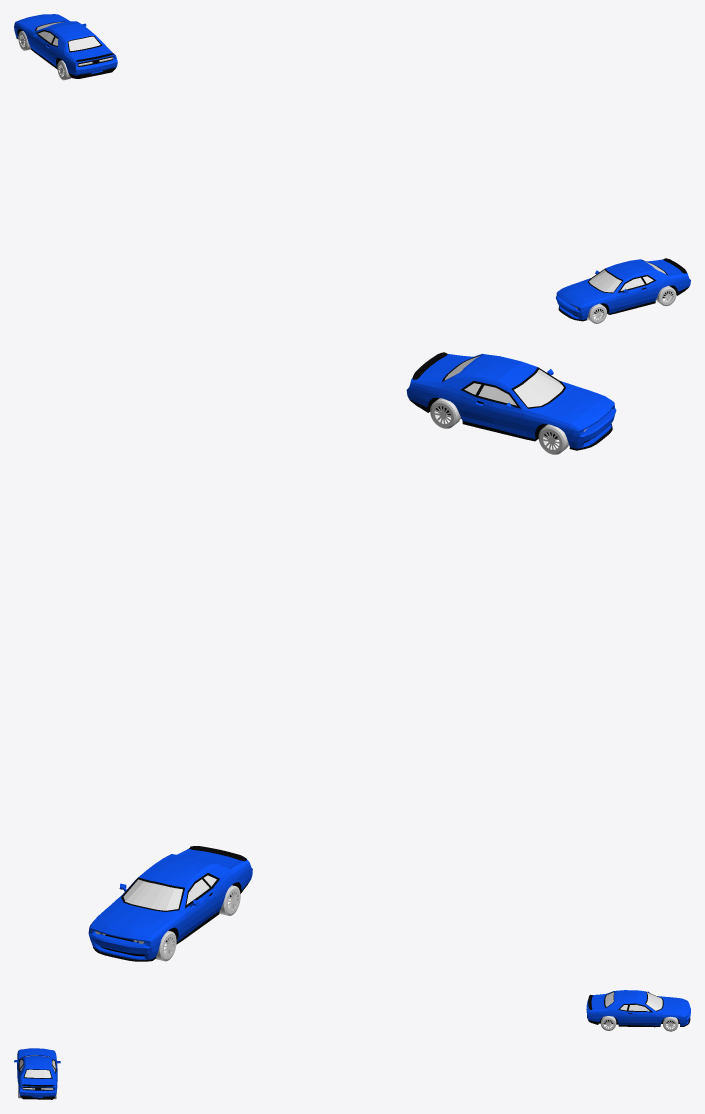
File: car2.fbx
The picture shows the model from 3 angles, top to bottom: view 1: azimuth 30°, elevation 25°; view 2: azimuth 150°, elevation 25°; view 3: azimuth 270°, elevation 25°; orthographic projection. The views are drawn at different scales.
Parts seen in each view (by area): view 1: Cube.037, Cube.032; view 2: Cube.037, Cube.032; view 3: Cube.032, Cube.037.
Boxes of the visible parts, x1=… form: Cube.037: x1=555, y1=258, x2=690, y2=323; Cube.032: x1=14, y1=14, x2=117, y2=80; Cube.037: x1=406, y1=352, x2=616, y2=454; Cube.032: x1=88, y1=846, x2=252, y2=961; Cube.032: x1=586, y1=990, x2=690, y2=1031; Cube.037: x1=14, y1=1048, x2=60, y2=1099.
Bounding box in the file's own units: 76.07 × 10.79 × 230.
